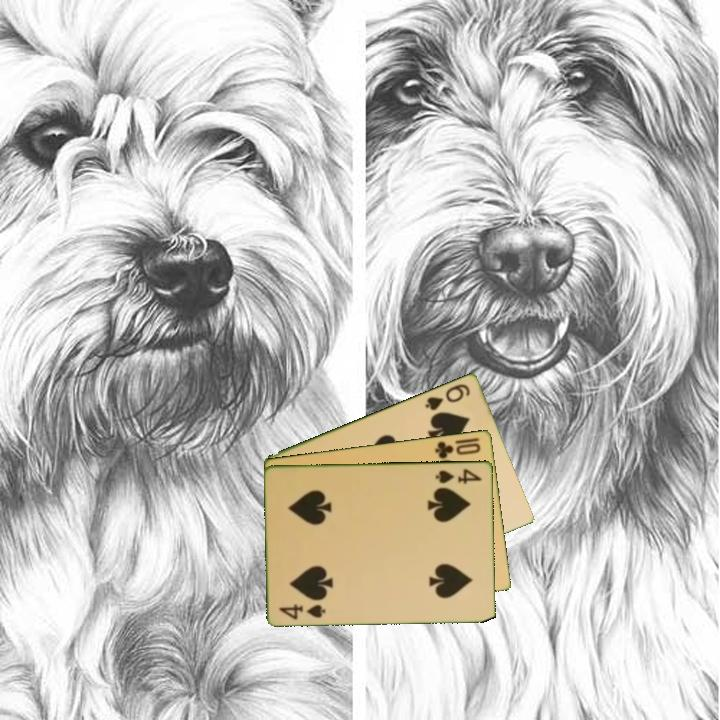10c: (432, 437, 484, 461)
4s: (432, 465, 485, 487), (276, 600, 329, 622)
6s: (421, 380, 473, 413)
